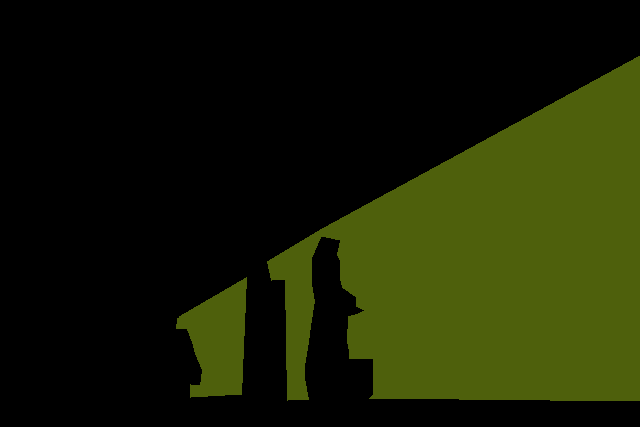Train: (176, 55, 640, 401)
